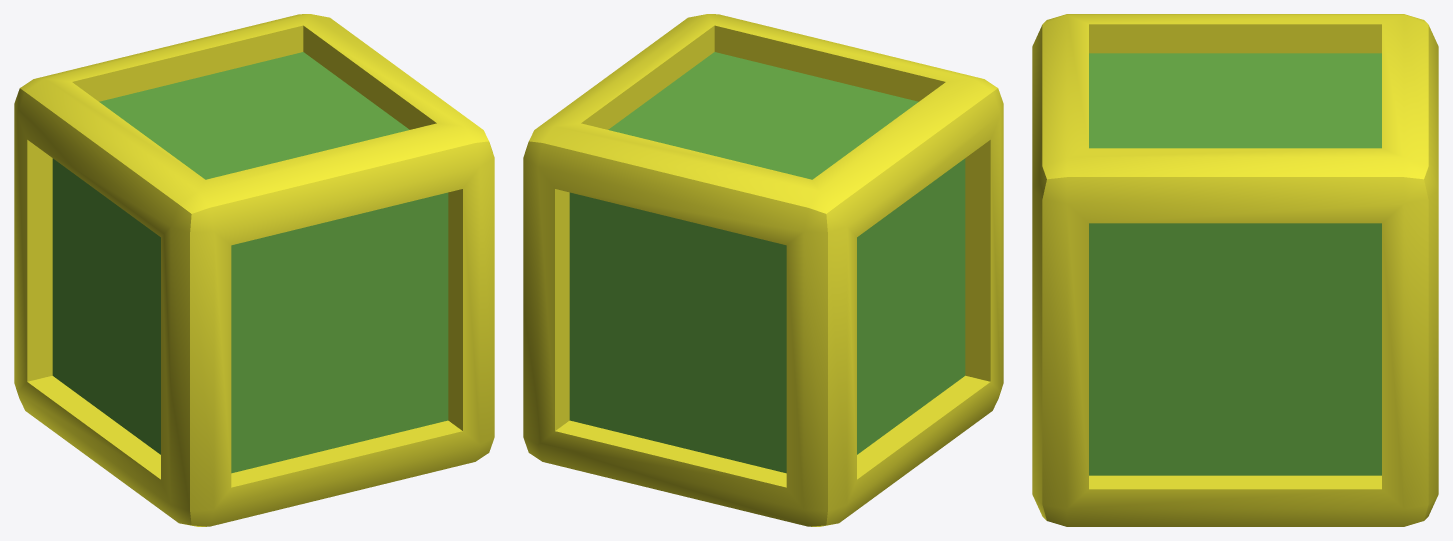
Rendered from Obstacle 15 V2.fbx.
The picture shows the model from 3 angles, left to right: view 1: azimuth 30°, elevation 25°; view 2: azimuth 150°, elevation 25°; view 3: azimuth 270°, elevation 25°; orthographic projection. The views are drawn at different scales.
Parts seen in each view (by area): view 1: O15 Part 1; view 2: O15 Part 1; view 3: O15 Part 1.
Part boxes in pixels (<box>): O15 Part 1: <box>14,14,494,526</box>; O15 Part 1: <box>523,14,1003,526</box>; O15 Part 1: <box>1032,14,1438,526</box>.
Bounding box in the file's own units: 62.51 × 62.51 × 62.51.
1 material, 1 textured.
